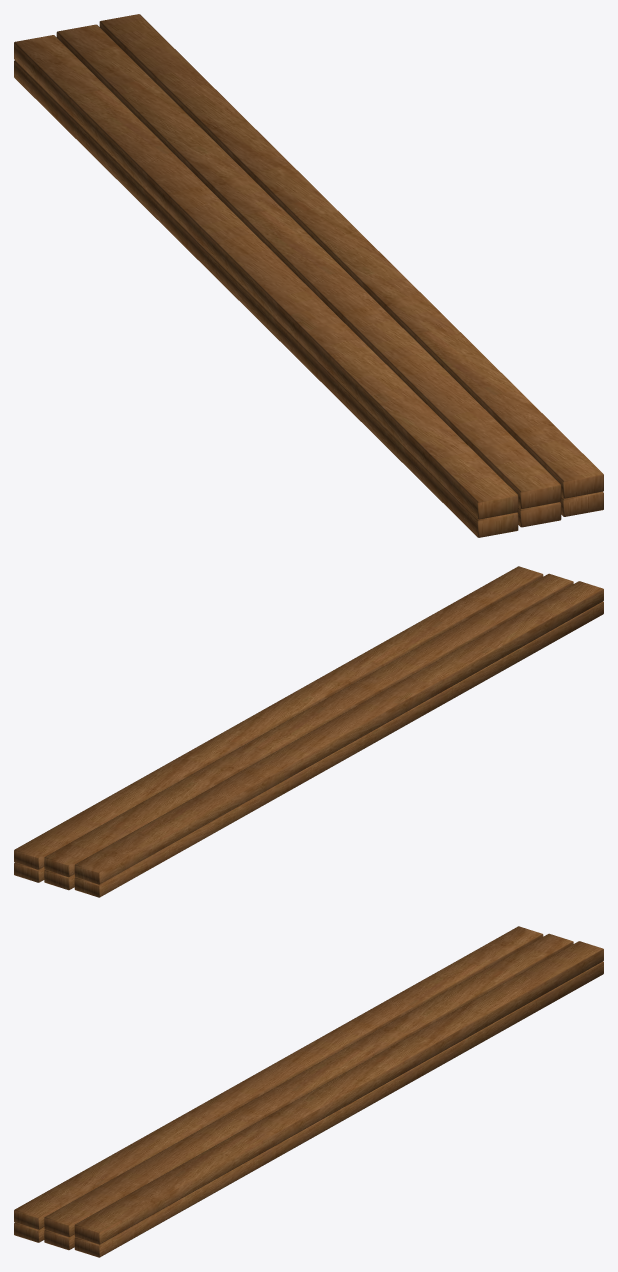
The model's file is lumber.glb.
3 renders of one model, top to bottom at view 1: azimuth 30°, elevation 25°; view 2: azimuth 150°, elevation 25°; view 3: azimuth 330°, elevation 25°, orthographic. The views are drawn at different scales.
Parts seen in each view (by area): view 1: Lumber; view 2: Lumber; view 3: Lumber.
Boxes of the visible parts, x1,y1,x2,y2 form: Lumber: (14, 14, 603, 537); Lumber: (14, 566, 603, 897); Lumber: (14, 926, 603, 1257).
Bounding box in the file's own units: 0.5778 × 0.081 × 2.39.
1 material, 1 textured.
